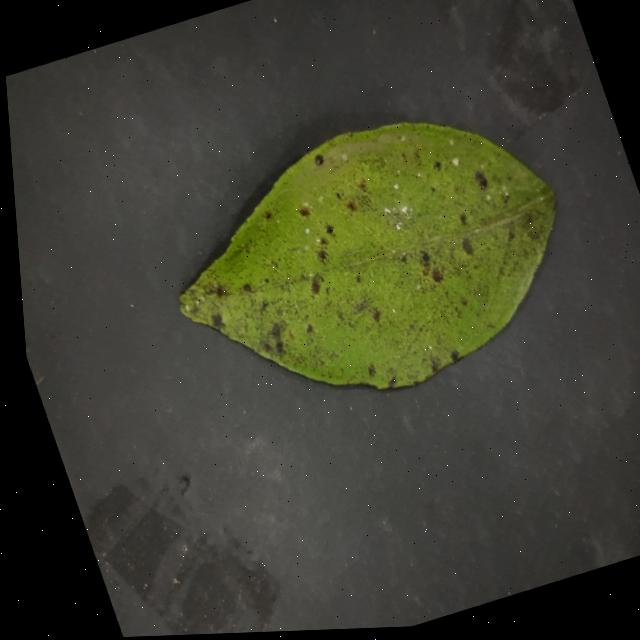greasy_spot: (179, 122, 553, 387)
